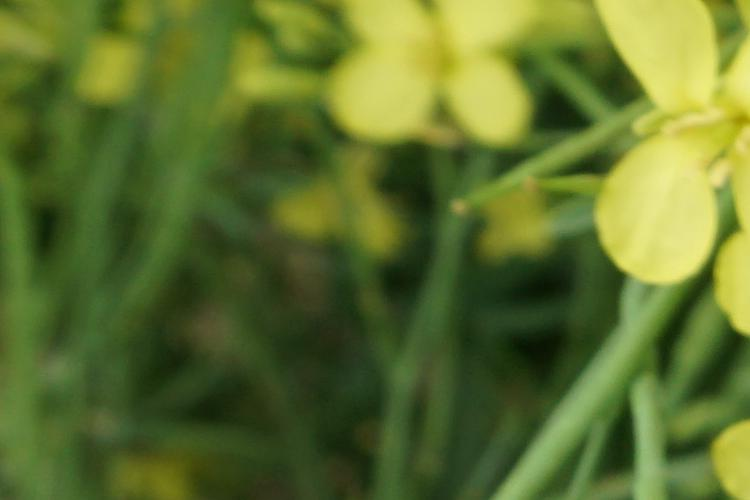yellow: (627, 23, 750, 287), (328, 6, 532, 150)
